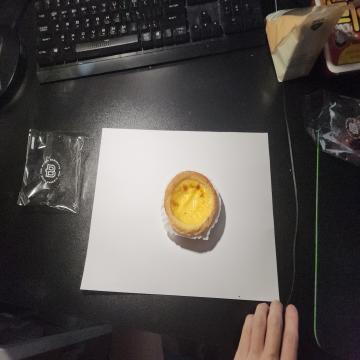EggTart: (163, 170, 219, 236)
